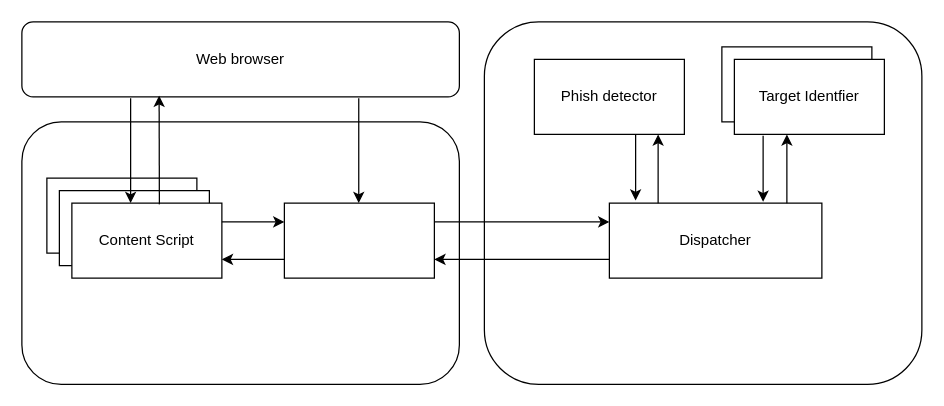
This 944x406 diagram has some shape labels left out. The shapes that lost their labels are listed below. From the top down, each one's box as (x1, y1, x2, y2) in pixels, then its label:
(483, 21, 922, 384): Background processes
(21, 121, 459, 384): Add-on
(283, 202, 434, 278): Background script
